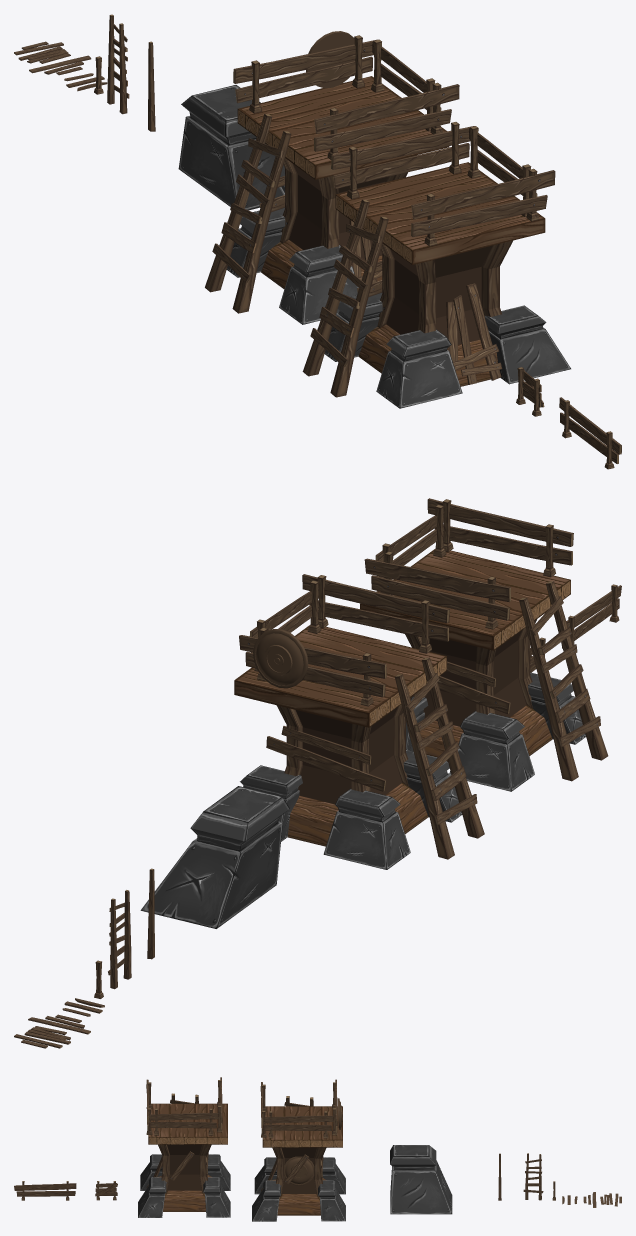
The model's file is Camp.fbx.
3 renders of one model, top to bottom at view 1: azimuth 30°, elevation 25°; view 2: azimuth 150°, elevation 25°; view 3: azimuth 270°, elevation 25°, orthographic. The views are drawn at different scales.
Visible parts, largest first — view 1: Archer_Tower_B, Archer_Tower_A, Tower_base_metal, Fence_long, Ladder, Fence_short; view 2: Archer_Tower_A, Archer_Tower_B, Tower_base_metal, Ladder, Fence_long; view 3: Archer_Tower_A, Archer_Tower_B, Tower_base_metal, Fence_long, Ladder, Fence_short.
Boxes of the visible parts, <box> form: Archer_Tower_B: <box>302,122,570,408</box>; Archer_Tower_A: <box>205,31,459,324</box>; Tower_base_metal: <box>178,85,284,210</box>; Fence_long: <box>559,397,621,469</box>; Ladder: <box>107,14,129,114</box>; Fence_short: <box>516,367,544,416</box>; Archer_Tower_A: <box>234,574,484,869</box>; Archer_Tower_B: <box>360,498,608,791</box>; Tower_base_metal: <box>140,786,289,928</box>; Ladder: <box>108,890,131,989</box>; Fence_long: <box>561,584,621,648</box>; Archer_Tower_A: <box>252,1079,345,1221</box>; Archer_Tower_B: <box>138,1077,230,1217</box>; Tower_base_metal: <box>390,1145,452,1214</box>; Fence_long: <box>14,1181,76,1200</box>; Ladder: <box>523,1153,543,1200</box>; Fence_short: <box>95,1181,117,1200</box>.
Size of the model in its own units: 350 by 315 by 1612.
1 material, 1 textured.
